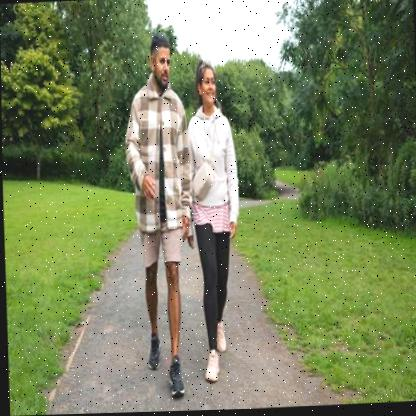person: (122, 30, 202, 396), (182, 54, 250, 389)
